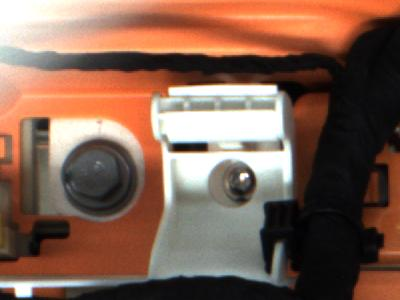nut_b: (57, 132, 140, 219)
